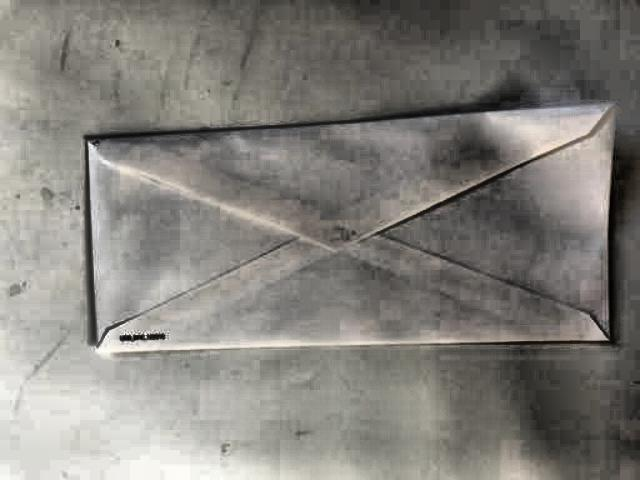Paper: (80, 101, 619, 348)
